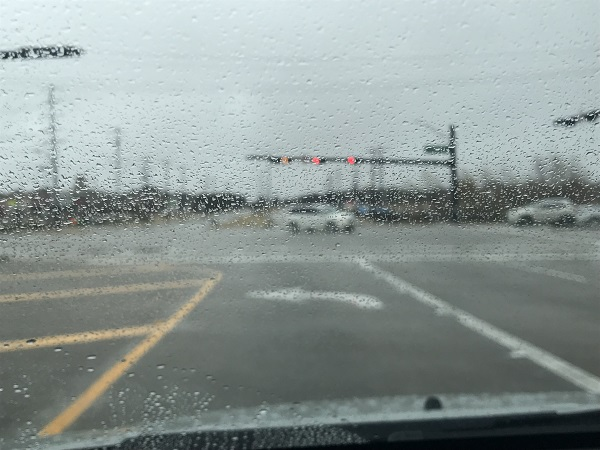car: (281, 200, 353, 231), (508, 198, 579, 229)
